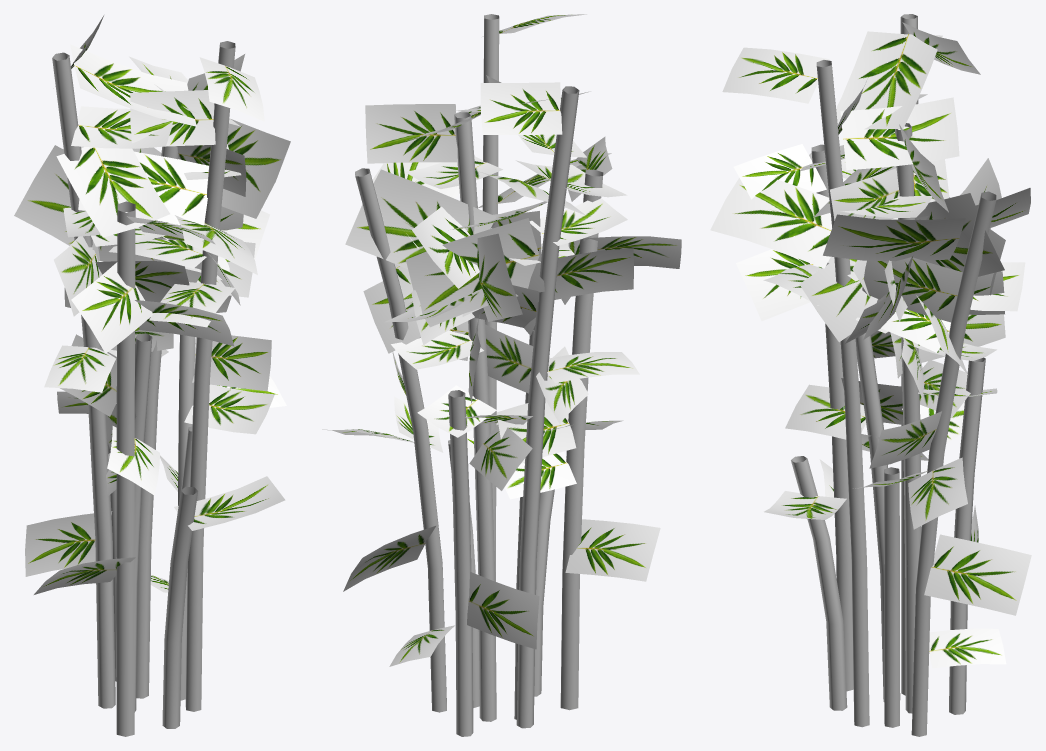
File: BambooWLeaves.fbx
3 renders of one model, left to right at view 1: azimuth 30°, elevation 25°; view 2: azimuth 150°, elevation 25°; view 3: azimuth 270°, elevation 25°, orthographic. The views are drawn at different scales.
Parts seen in each view (by area): view 1: Plane.056, Cylinder; view 2: Plane.056, Cylinder; view 3: Plane.056, Cylinder.
Part boxes in pixels (x1,y1,x2,y2): Plane.056: (14,15,290,594); Cylinder: (52,41,235,736); Plane.056: (322,14,681,666); Cylinder: (355,14,603,736); Plane.056: (710,22,1031,668); Cylinder: (791,14,996,736).
Bounding box in the file's own units: 124 × 284 × 124.
